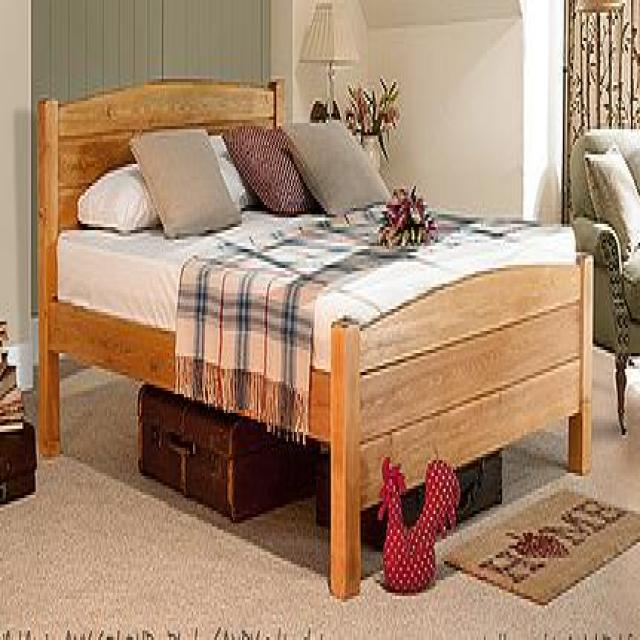bed: (36, 73, 594, 599)
chair: (568, 126, 638, 432)
